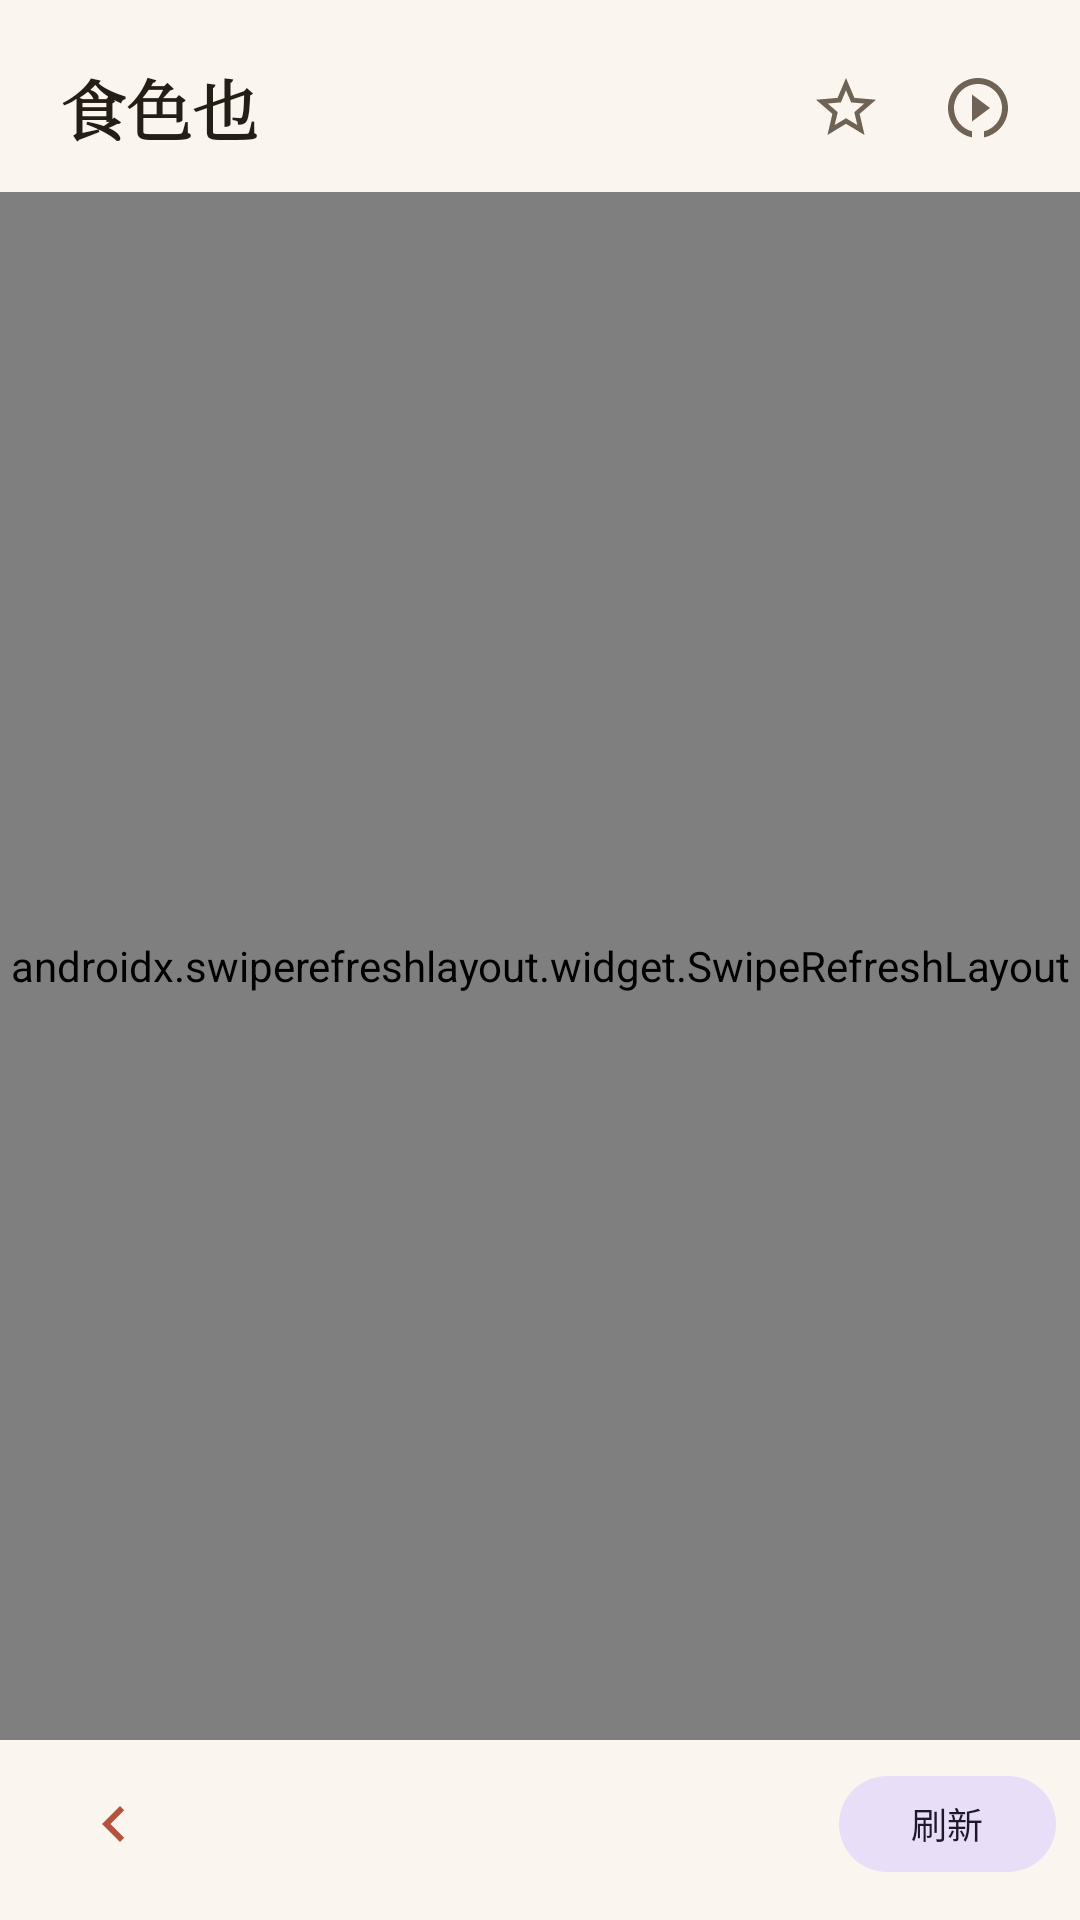

Icons on this 1080w x 1920h Android screen, each with the point to tap as (x=x, y=y):
上一页: (x=113, y=1824)
收藏: (x=846, y=106)
